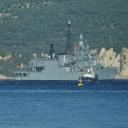Fragata: (12, 22, 121, 83)
